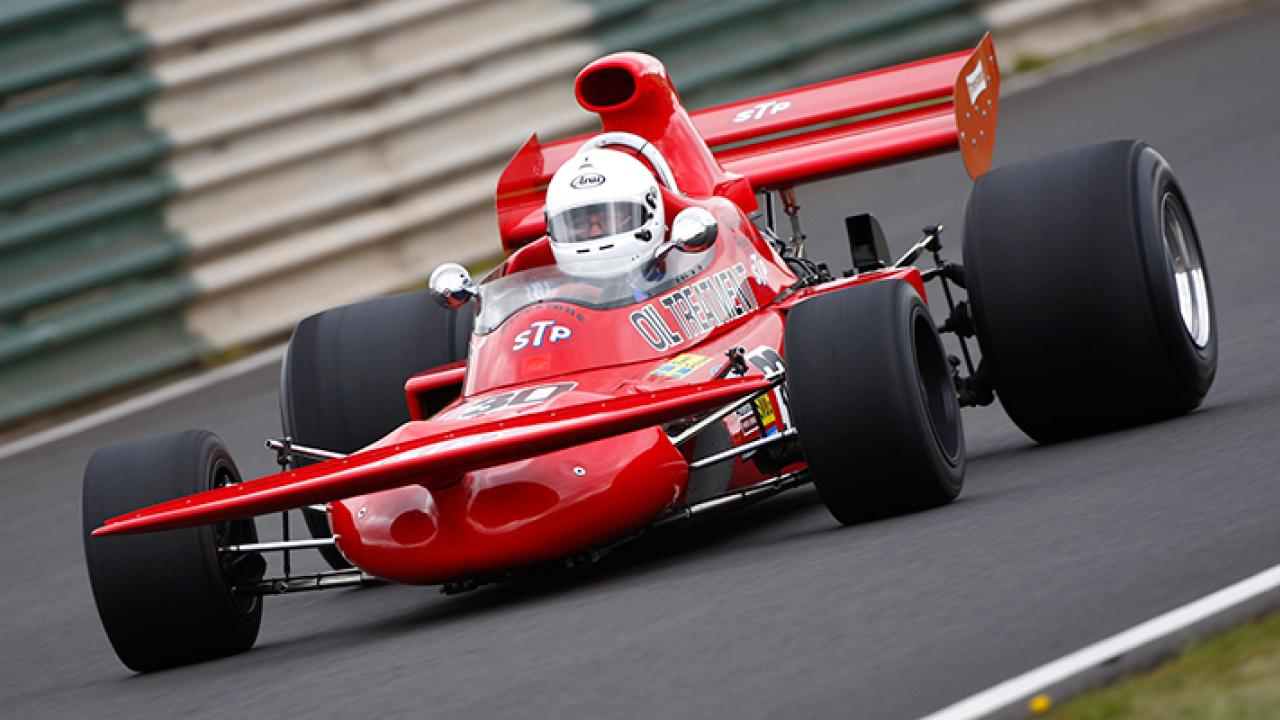f1_car: (57, 10, 1232, 703)
helmet: (527, 145, 679, 285)
